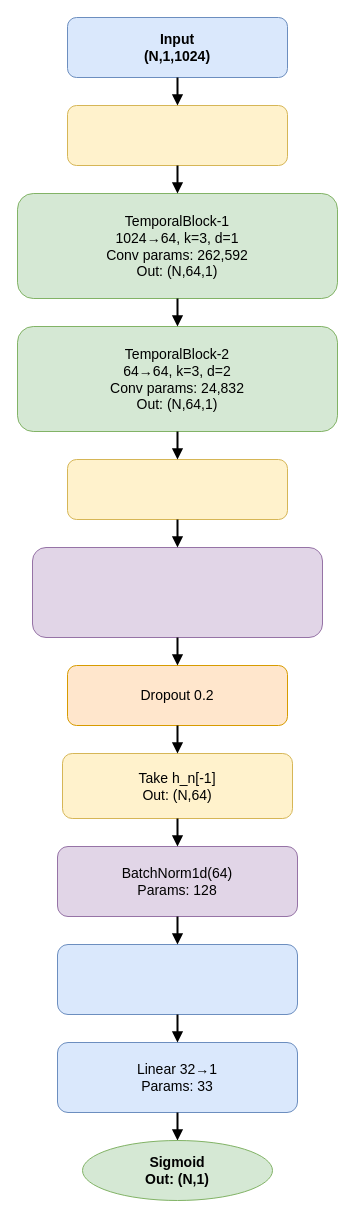
This 355x1218 diagram has some shape labels left out. Each missing label, with the box of its shape:
Linear 64→32 Params: 2,080: (56, 944, 298, 1014)
LSTM 64→64, 1 layer Params: 33,280 Out: (N,1,64): (32, 546, 322, 638)
Permute (N,1,64): (66, 458, 288, 520)
Permute (N,1024,1): (66, 104, 288, 166)
